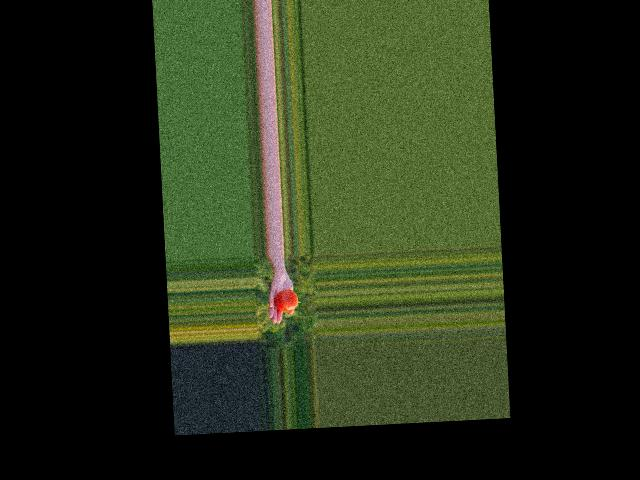tomato: (273, 289, 298, 312)
